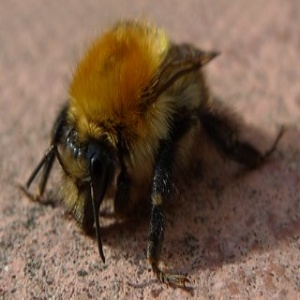bee: (24, 19, 287, 288)
